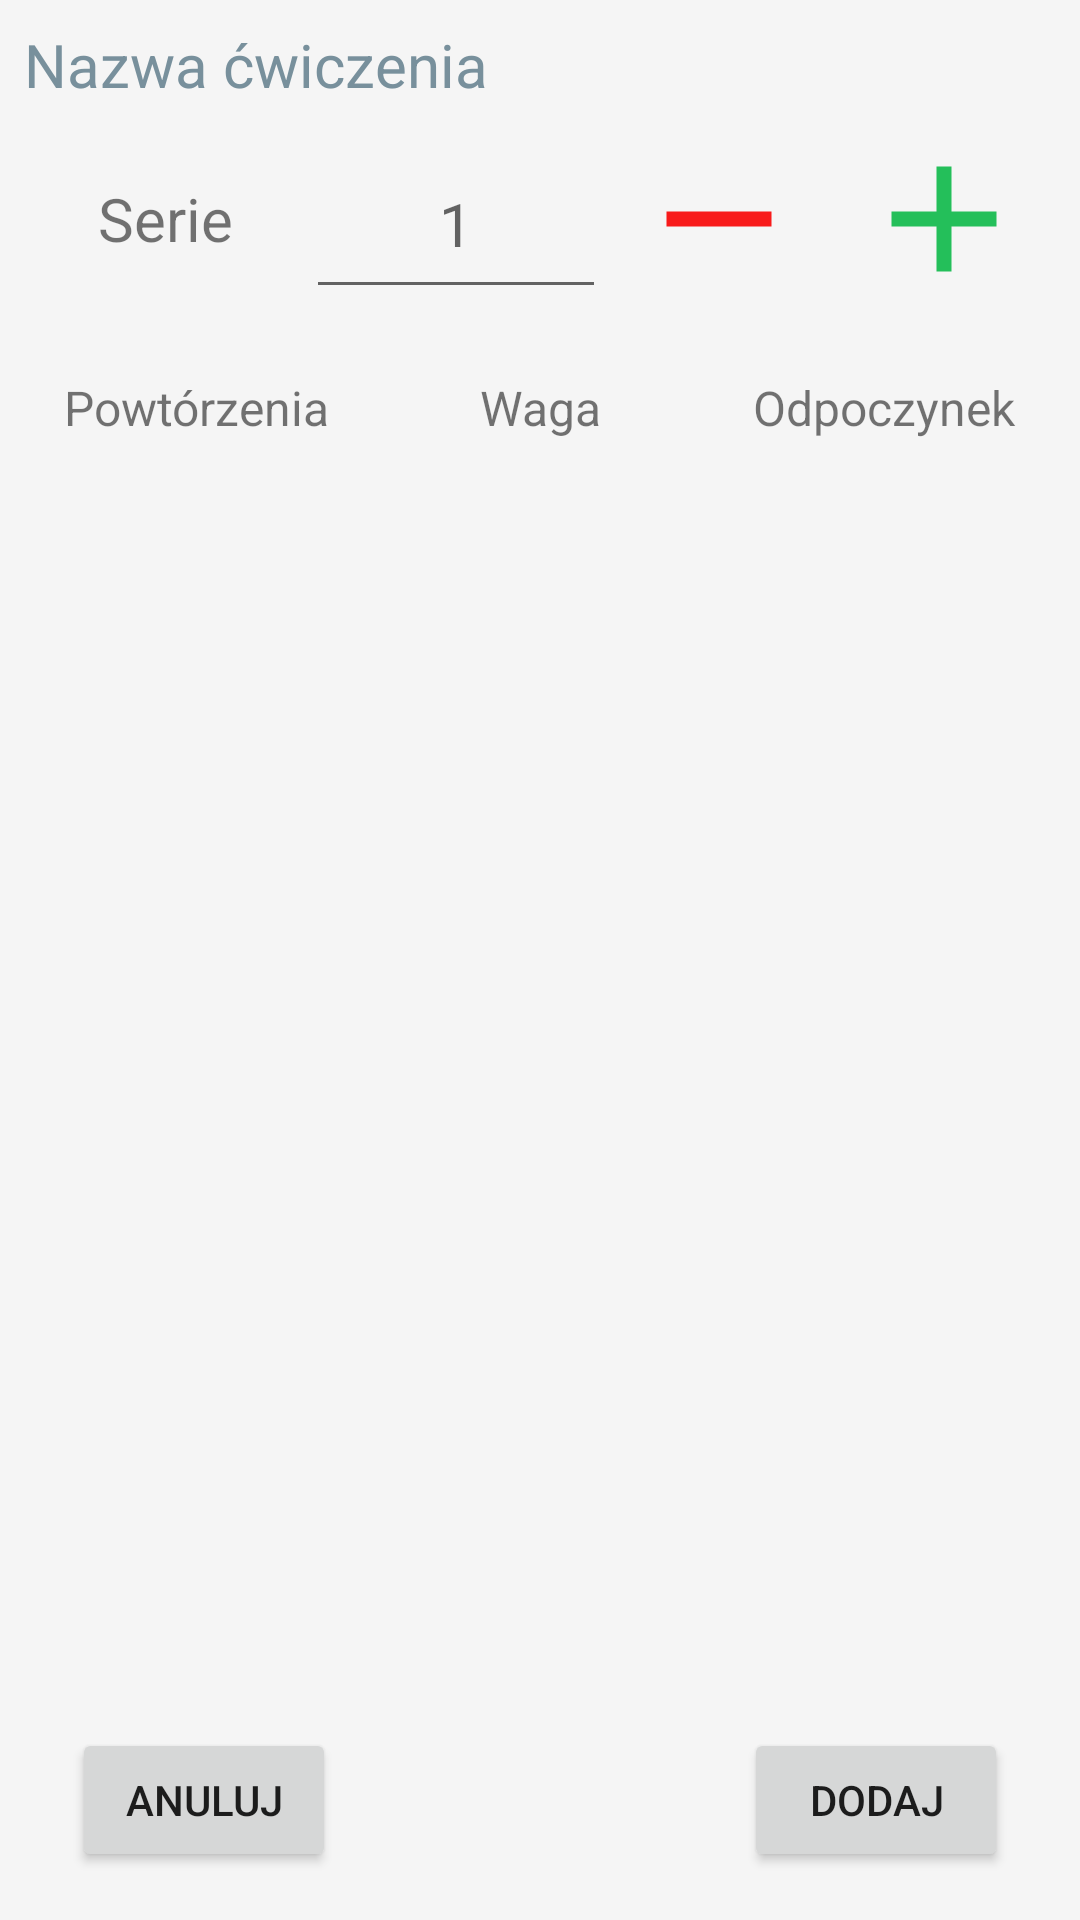

Screen size 1080px x 1920px. Icon name, then its box in pixels as (x1, y1, x2, y2):
add: (891, 166, 997, 272)
